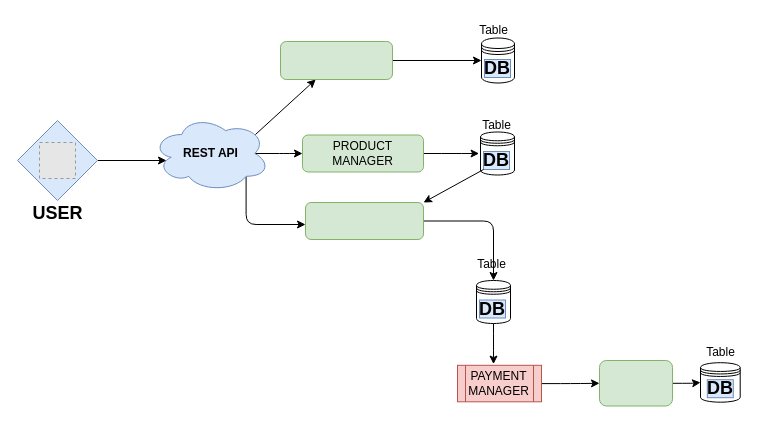
Some shapes in this 761 by 429 pixel diagram are drawn without their labels. Grey dashed boxes stand in for pictures. Each missing label, with the centre of its shape:
"CART MANAGER" belongs at [364,221].
"ORDER MANAGER" belongs at [635,383].
"USER MANAGER" belongs at [336,60].
